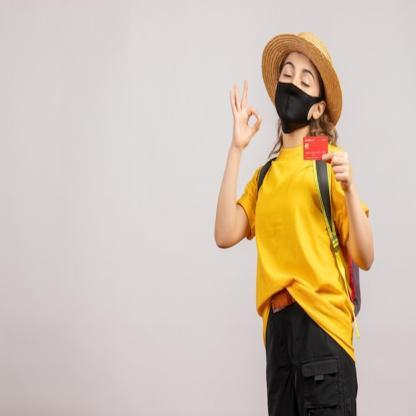ok: (229, 79, 262, 152)
